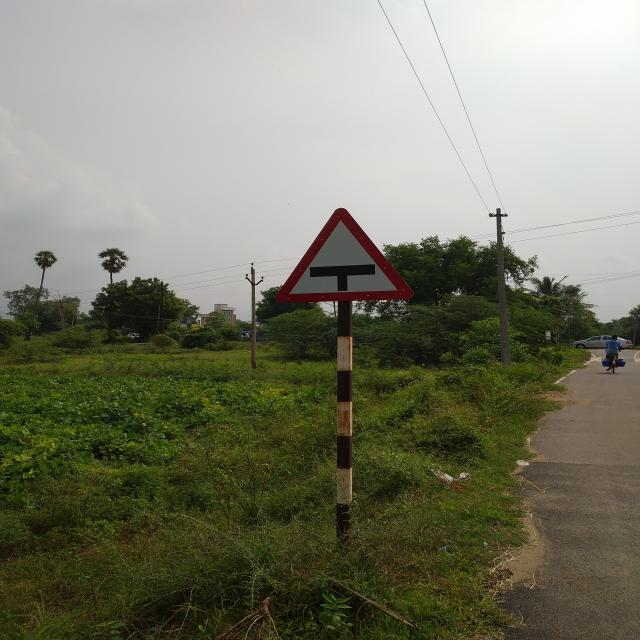t intersection: (271, 205, 414, 299)
